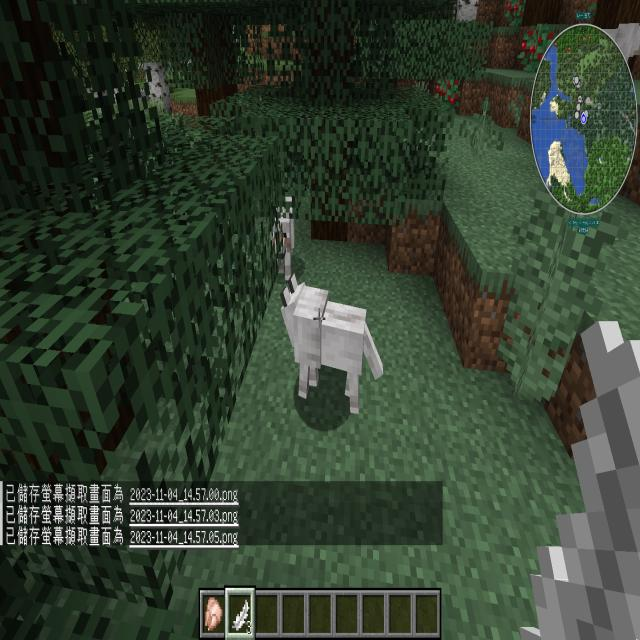Wolf: (268, 266, 391, 426), (261, 179, 305, 300)
